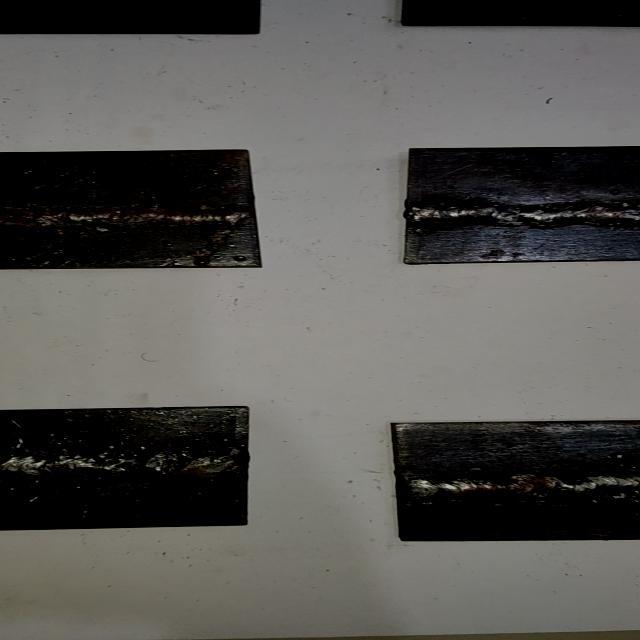Defect: (100, 440, 202, 488), (534, 466, 614, 511)
Welding Line: (0, 448, 241, 481), (400, 472, 640, 505), (0, 202, 251, 230), (411, 203, 640, 227)
Workpiece: (0, 147, 273, 271), (0, 403, 257, 532), (384, 418, 640, 544), (399, 146, 640, 266)
